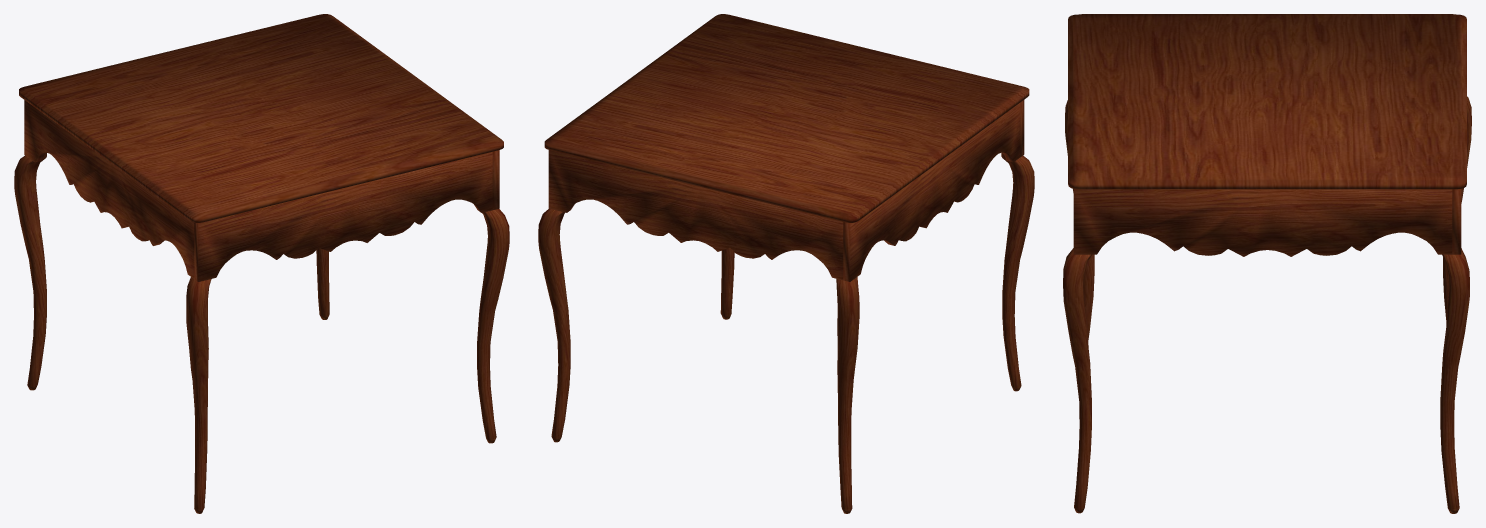
Rendered from beistelltisch.glb.
The picture shows the model from 3 angles, left to right: view 1: azimuth 30°, elevation 25°; view 2: azimuth 150°, elevation 25°; view 3: azimuth 270°, elevation 25°; orthographic projection. The views are drawn at different scales.
Visible parts, largest first — view 1: Table_Tablea_0; view 2: Table_Tablea_0; view 3: Table_Tablea_0.
Boxes of the visible parts, x1=… form: Table_Tablea_0: x1=14, y1=14, x2=509, y2=513; Table_Tablea_0: x1=538, y1=14, x2=1034, y2=513; Table_Tablea_0: x1=1063, y1=14, x2=1471, y2=513.
Bounding box in the file's own units: 0.8928 × 0.8092 × 0.8928.
Materials: 1 (1 with a texture image).
